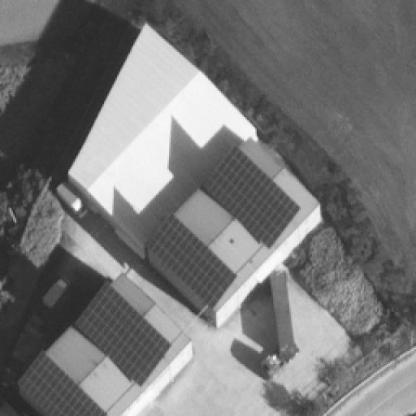solar-pv-panel: (201, 146, 301, 249), (74, 280, 170, 387), (145, 212, 236, 308), (17, 350, 108, 416)
